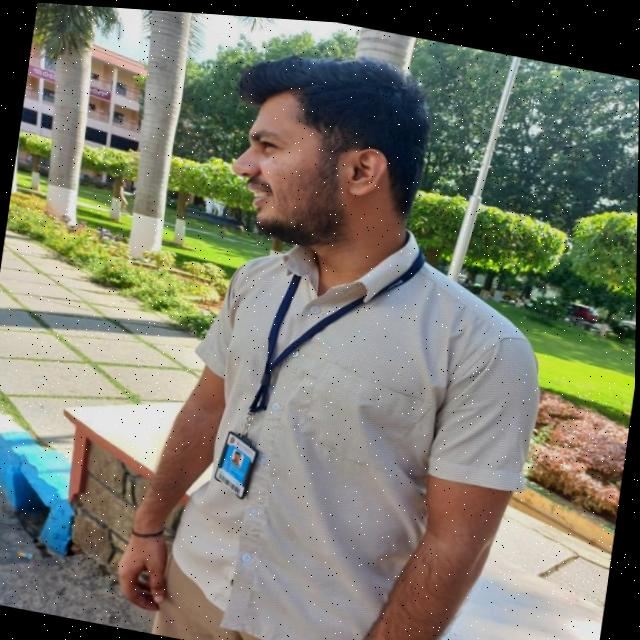id_card: (248, 270, 368, 416), (215, 426, 261, 495), (372, 270, 405, 292)
